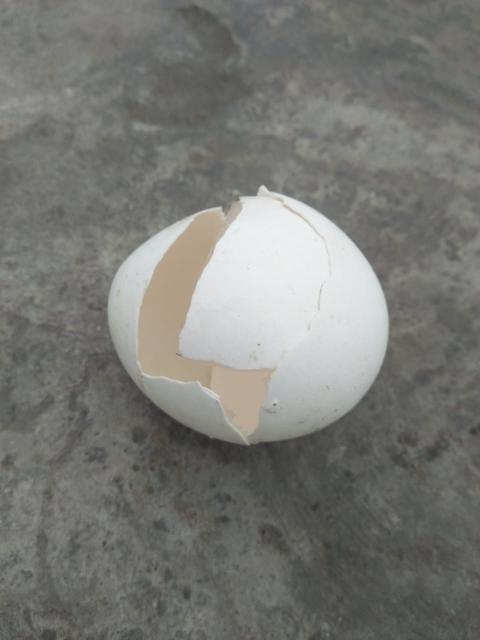Roto: (106, 184, 390, 446)
